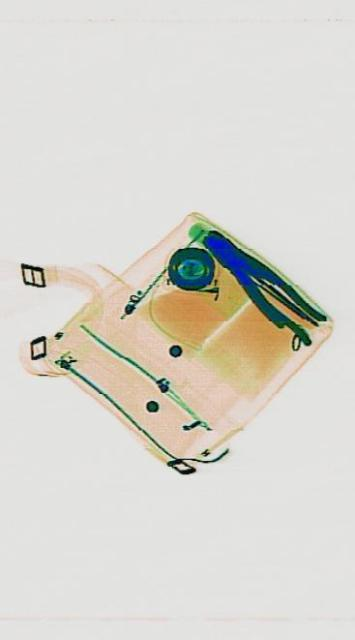Pliers: (195, 209, 325, 359)
